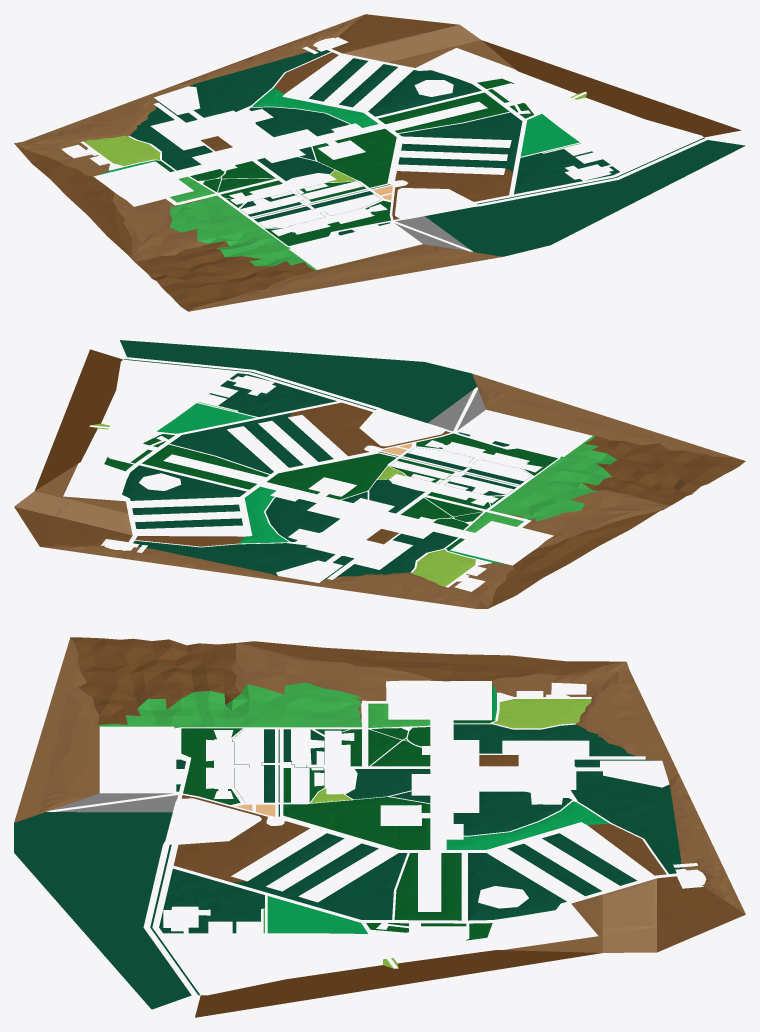
Rendered from hall tech.gltf.
The picture shows the model from 3 angles, top to bottom: view 1: azimuth 30°, elevation 25°; view 2: azimuth 150°, elevation 25°; view 3: azimuth 270°, elevation 25°; orthographic projection. The views are drawn at different scales.
Parts seen in each view (by area): view 1: ground; view 2: ground; view 3: ground.
Boxes of the visible parts, box(x1,y1,x2,y2) form: ground: box(14, 14, 745, 311); ground: box(14, 340, 745, 608); ground: box(14, 637, 745, 1017).
Size of the model in its own units: 1364 by 11.69 by 1111.
1 material, 1 textured.
